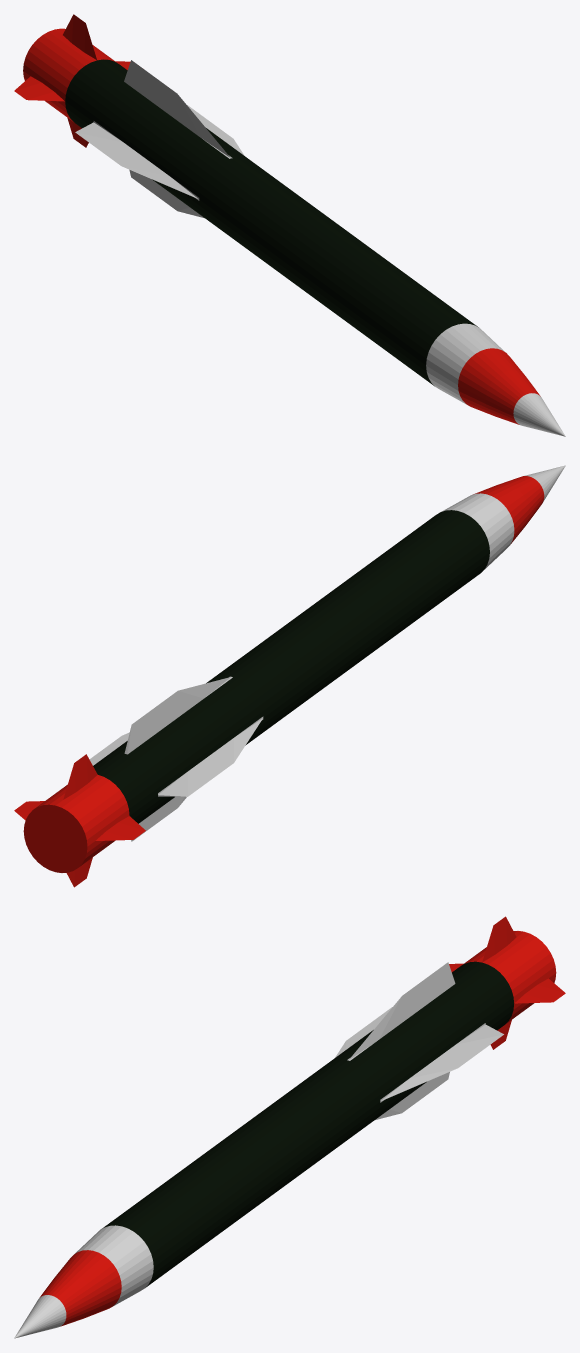
The model's file is Prop_Interceptor.obj.
The picture shows the model from 3 angles, top to bottom: view 1: azimuth 30°, elevation 25°; view 2: azimuth 150°, elevation 25°; view 3: azimuth 330°, elevation 25°; orthographic projection.
Parts seen in each view (by area): view 1: パトリオット; view 2: パトリオット; view 3: パトリオット.
Part boxes in pixels (x1,y1,x2,y2): パトリオット: (14,14,565,436); パトリオット: (14,465,565,887); パトリオット: (14,916,565,1338).
Bounding box in the file's own units: 1.76 × 1.75 × 13.
